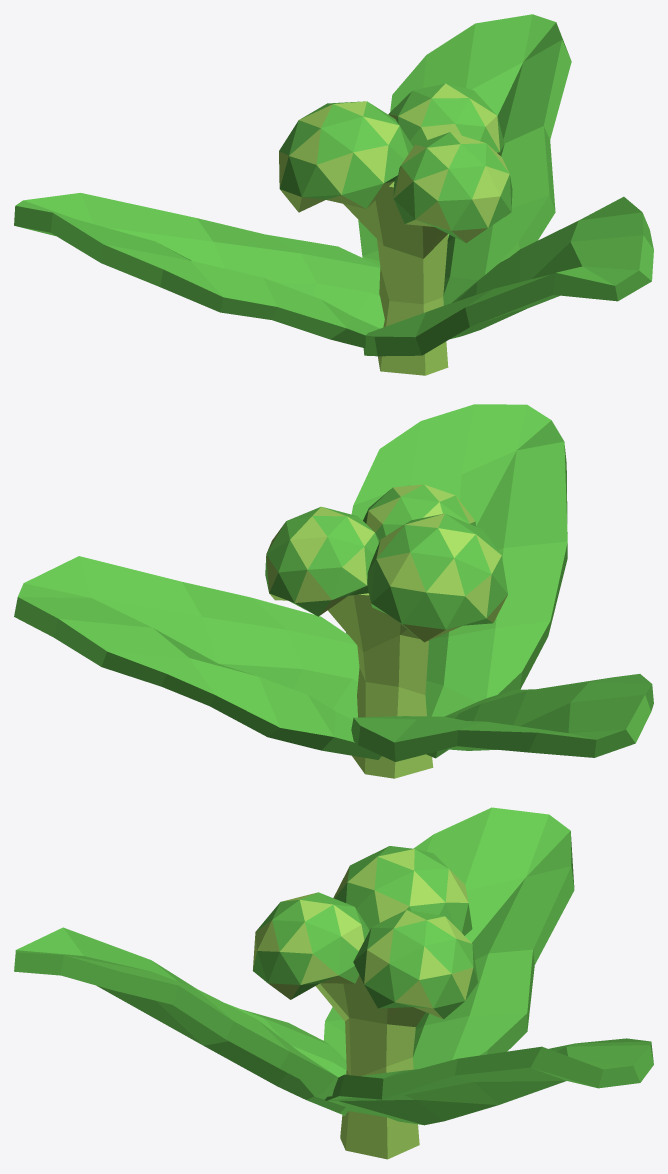
Rendered from Broccoli_M.fbx.
3 renders of one model, top to bottom at view 1: azimuth 30°, elevation 25°; view 2: azimuth 150°, elevation 25°; view 3: azimuth 270°, elevation 25°, orthographic.
Visible parts, largest first — view 1: Broccoli_M; view 2: Broccoli_M; view 3: Broccoli_M.
Boxes of the visible parts, x1,y1,x2,y2 form: Broccoli_M: (14, 14, 653, 375); Broccoli_M: (14, 404, 653, 778); Broccoli_M: (14, 807, 653, 1159).
Bounding box in the file's own units: 37.61 × 16.19 × 35.89.
